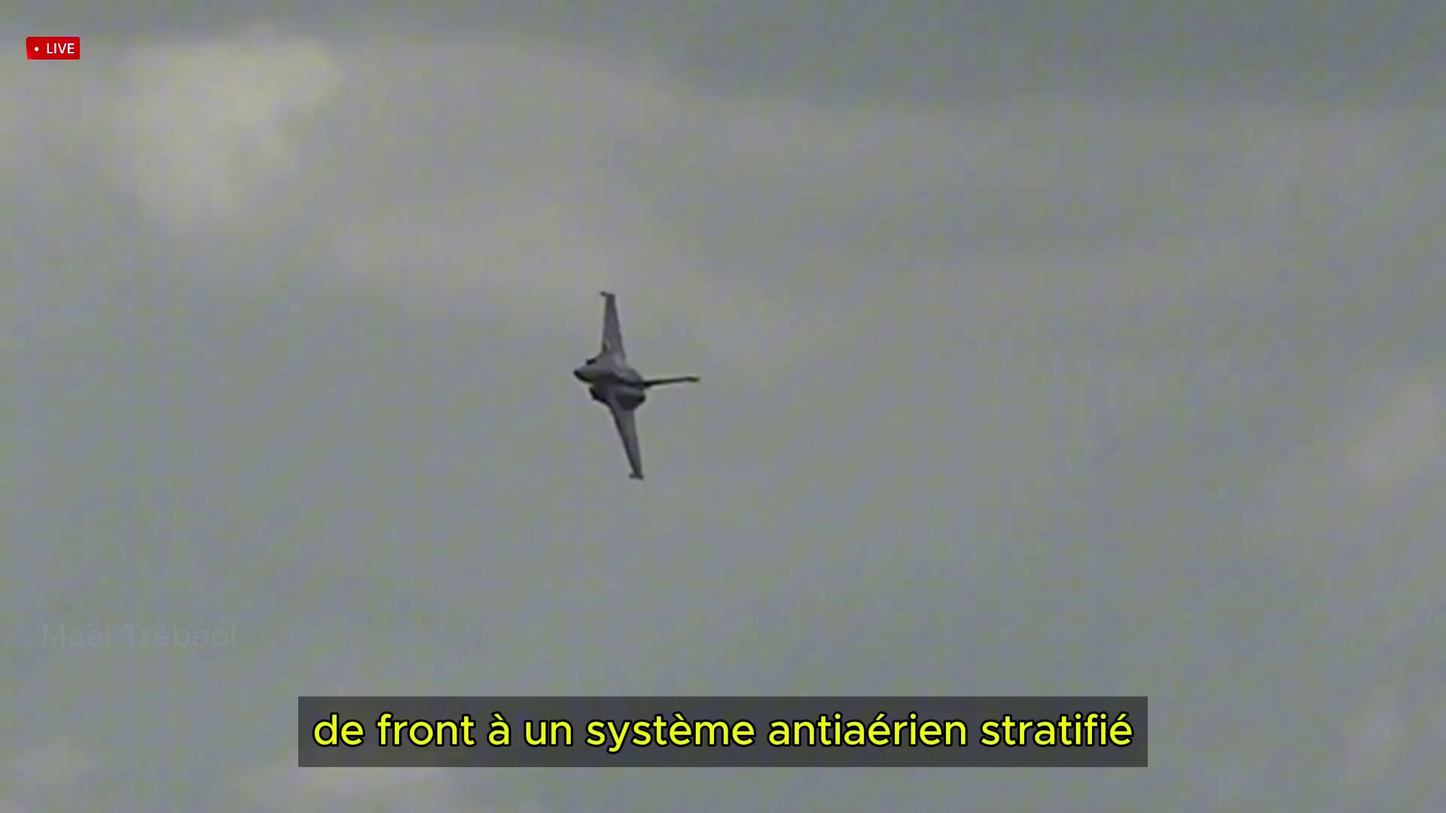Rafale: (572, 289, 704, 483)
